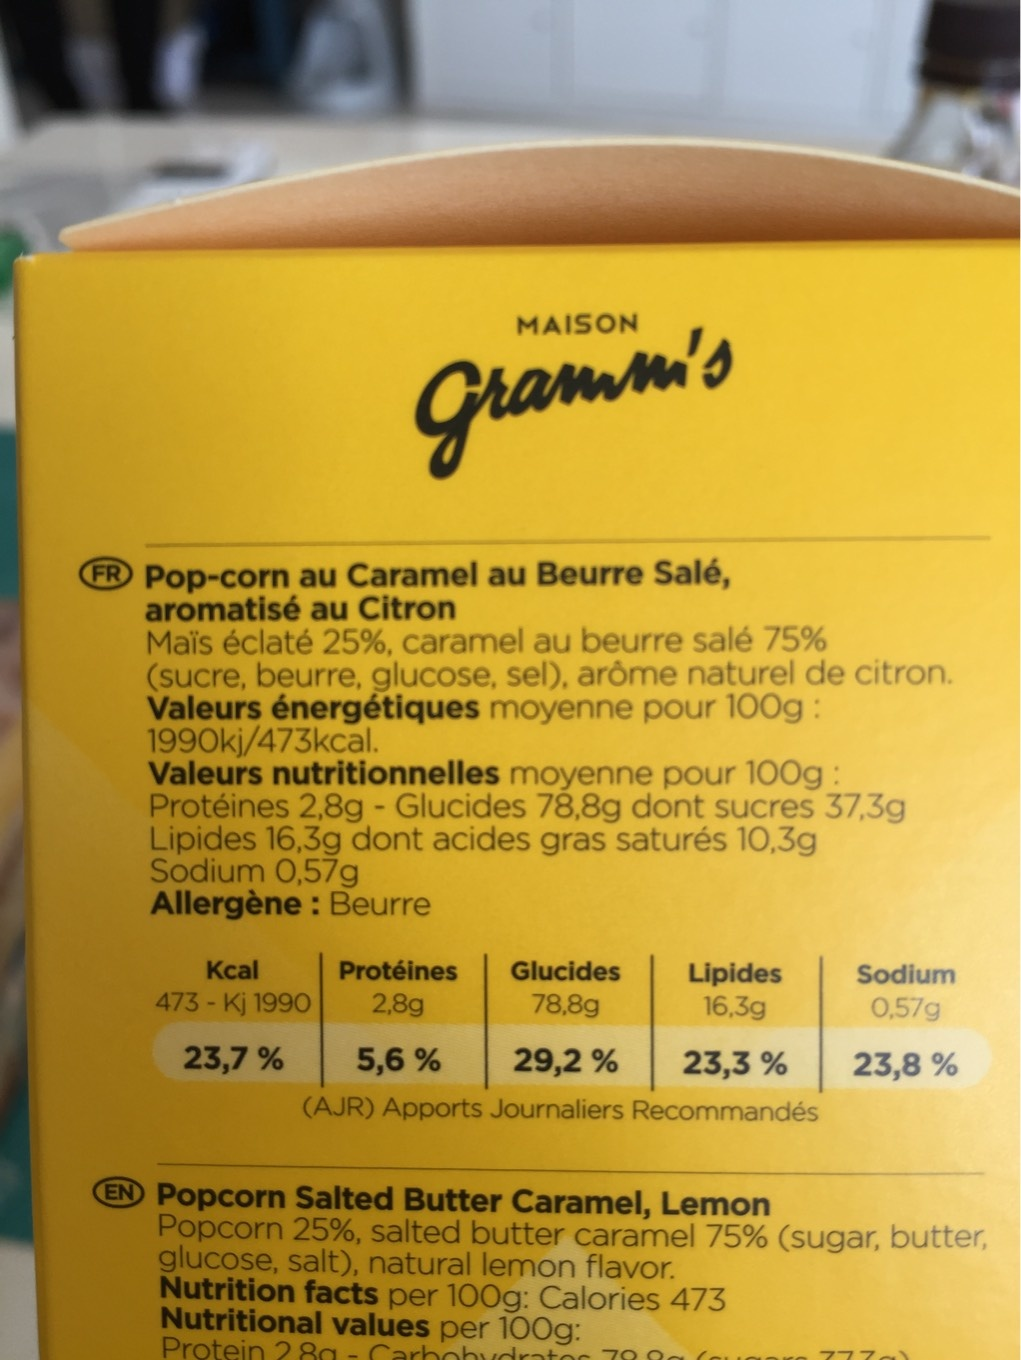column: (157, 951, 309, 1079), (339, 954, 461, 1079), (509, 954, 620, 1083), (849, 958, 959, 1085), (680, 958, 789, 1083)
table: (145, 937, 997, 1097)
